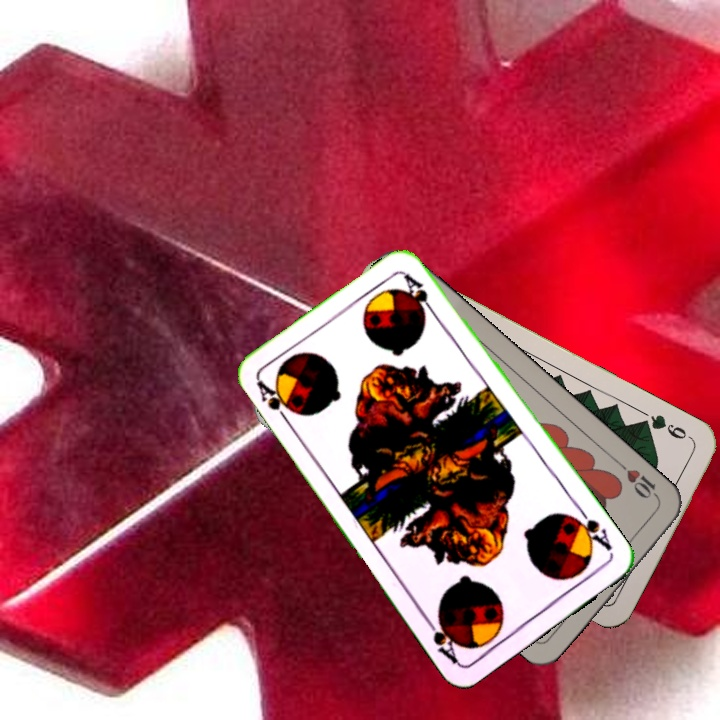G9: (637, 410, 695, 443)
H10: (615, 459, 663, 504)
SA: (566, 504, 615, 554), (252, 376, 297, 428)
